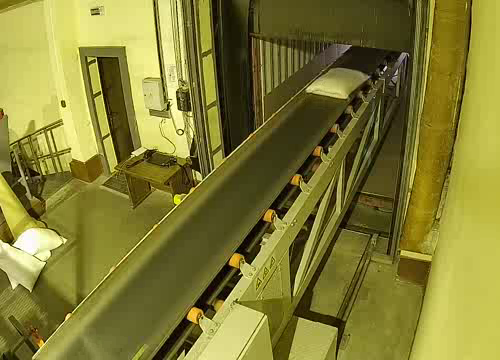bag: (303, 60, 378, 104)
